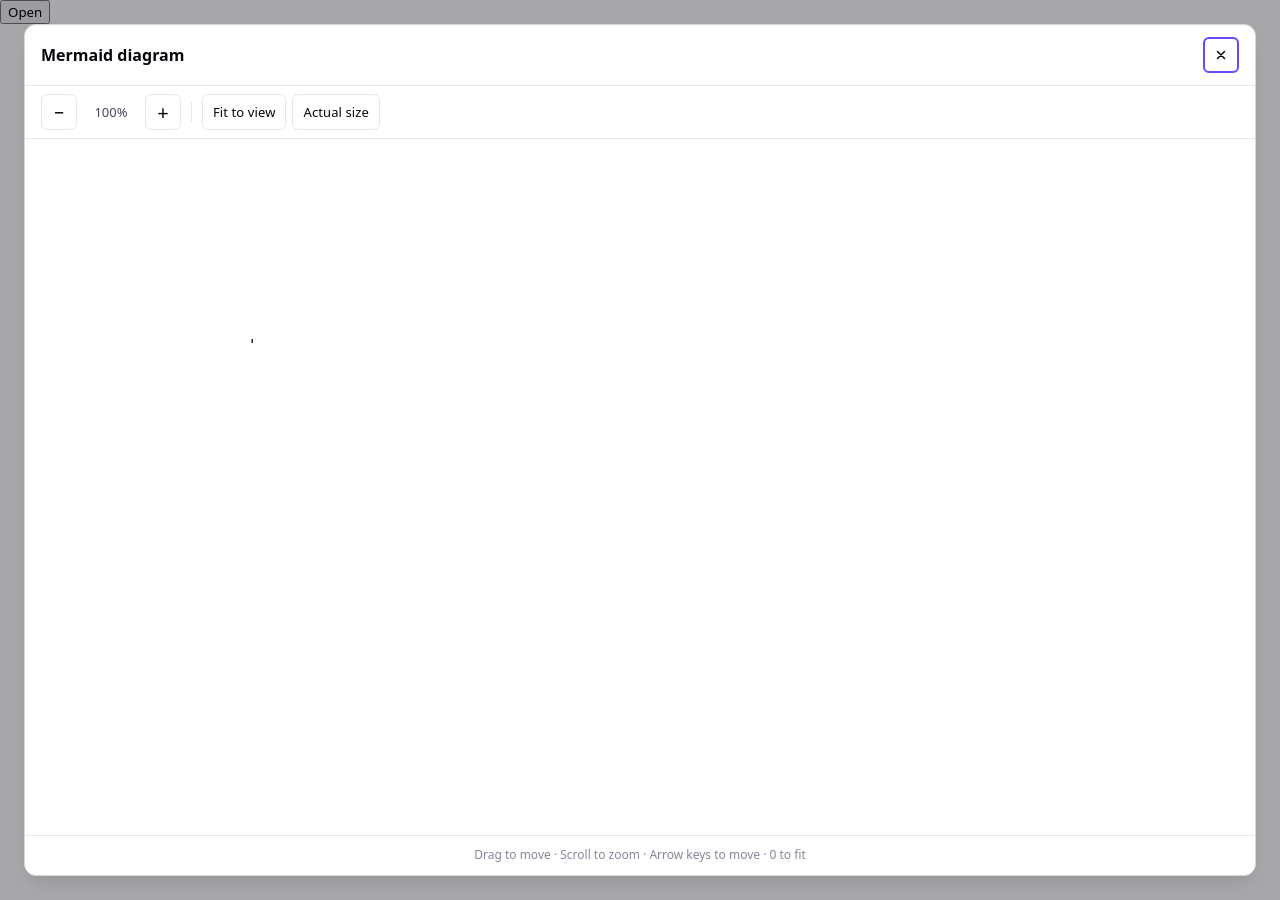
Test: expanded Mermaid viewer › preserves transformations through a theme change and viewport resize
Check: the element with class "diagram-modal__graphic" is shown, box [225,339,625,539]
Click the button named "Zoom in": [163, 112] box [145,94,181,130]
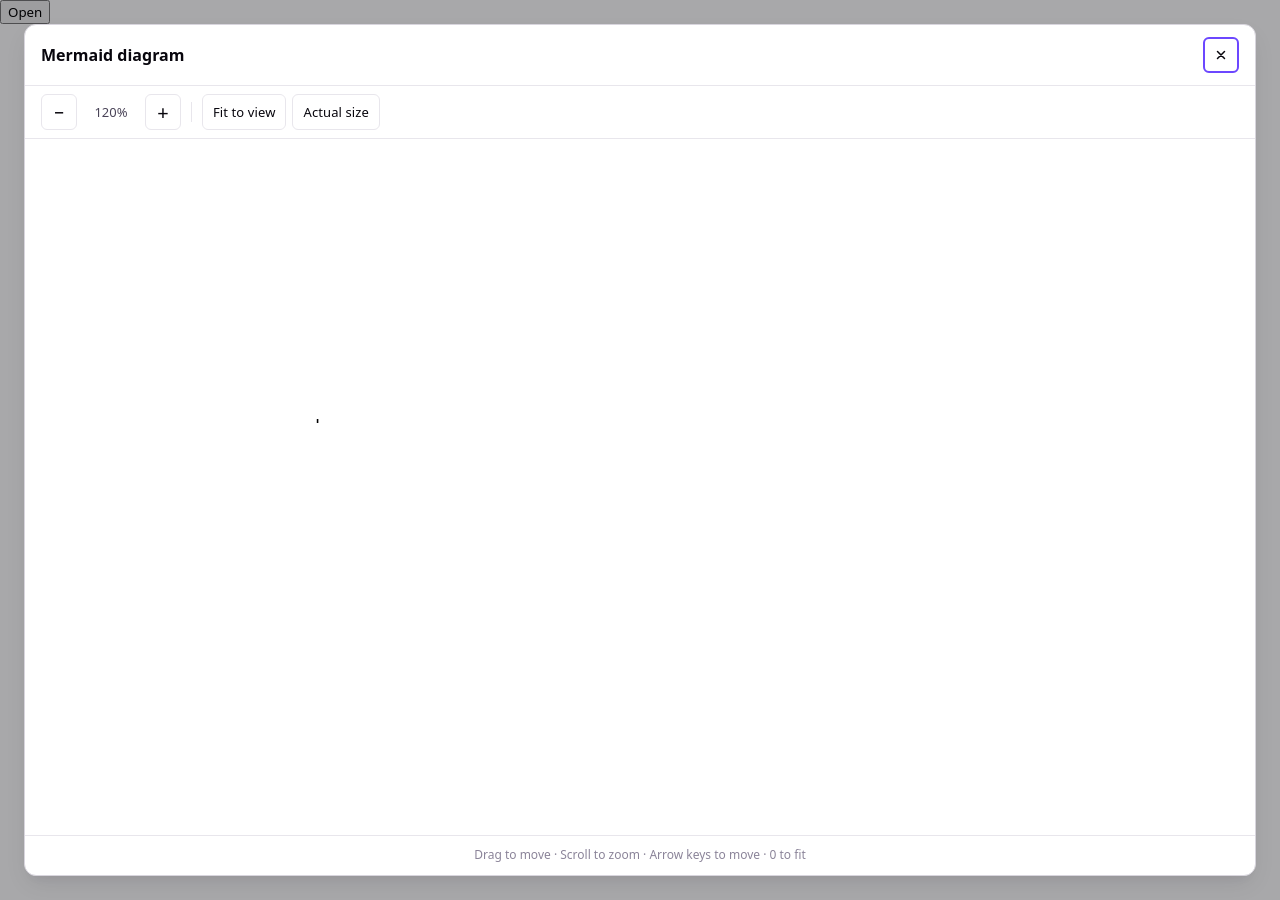
Click the button "Fit to view": [244, 112] box [202,94,286,130]
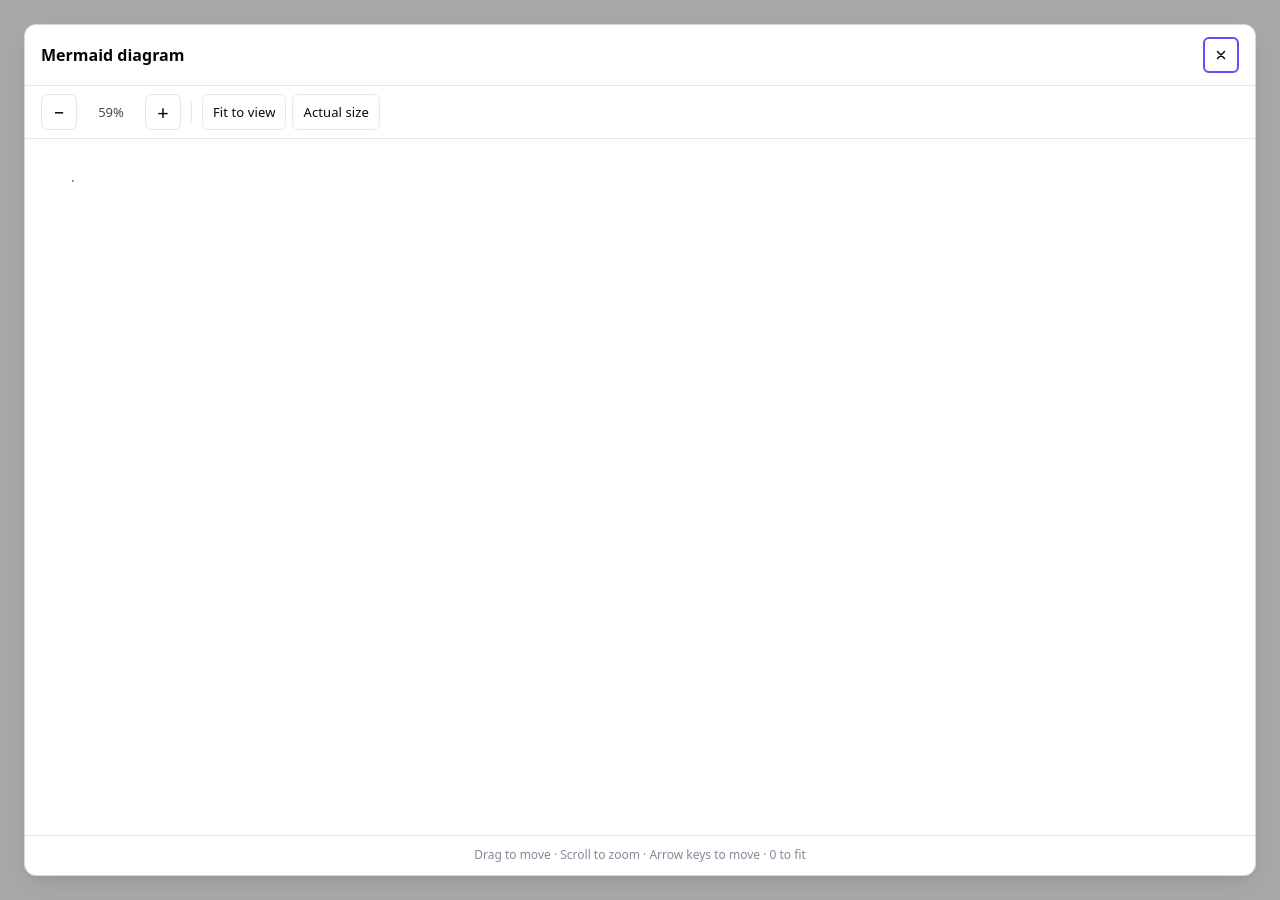
Check: the text named "Zoom level" reads "59%", box [98,103,124,121]
